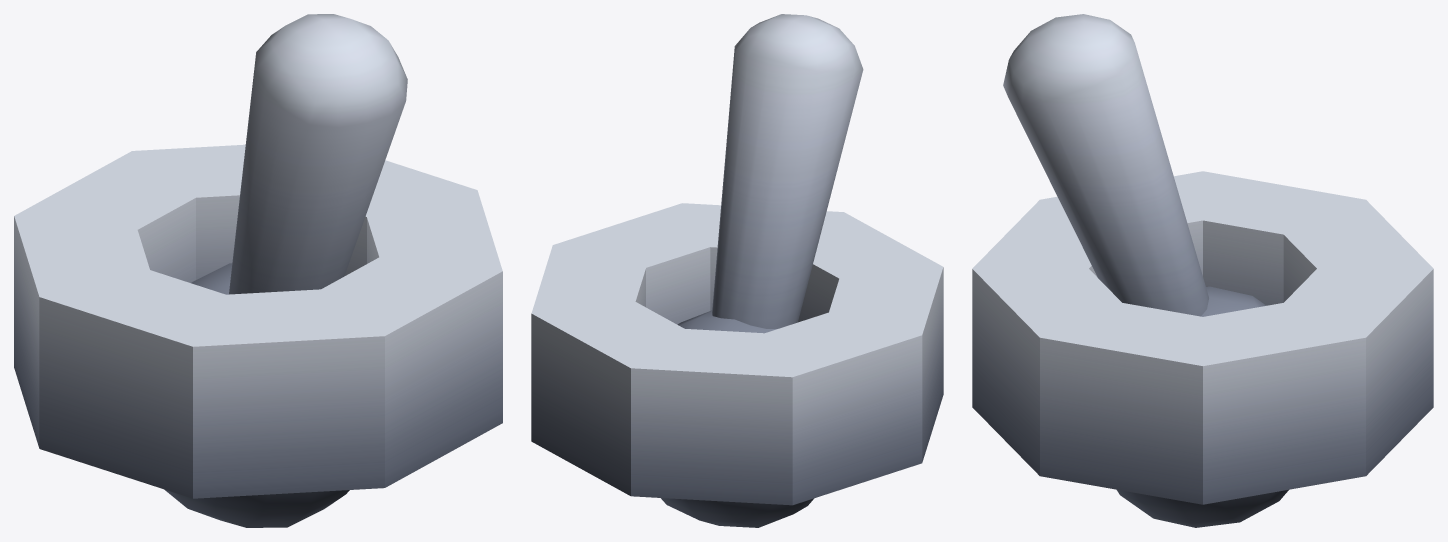
Rendered from Switch3.FBX.
3 renders of one model, left to right at view 1: azimuth 30°, elevation 25°; view 2: azimuth 150°, elevation 25°; view 3: azimuth 270°, elevation 25°, orthographic. The views are drawn at different scales.
Parts seen in each view (by area): view 1: Switch3_Base, Switch3_Handle; view 2: Switch3_Base, Switch3_Handle; view 3: Switch3_Base, Switch3_Handle.
Boxes of the visible parts, x1,y1,x2,y2 form: Switch3_Base: (14,144,502,498); Switch3_Handle: (164,14,407,527); Switch3_Base: (531,203,943,505); Switch3_Handle: (661,14,863,527); Switch3_Base: (972,171,1433,504); Switch3_Handle: (1003,14,1288,527).
Bounding box in the file's own units: 5.14 × 6.09 × 5.14.
